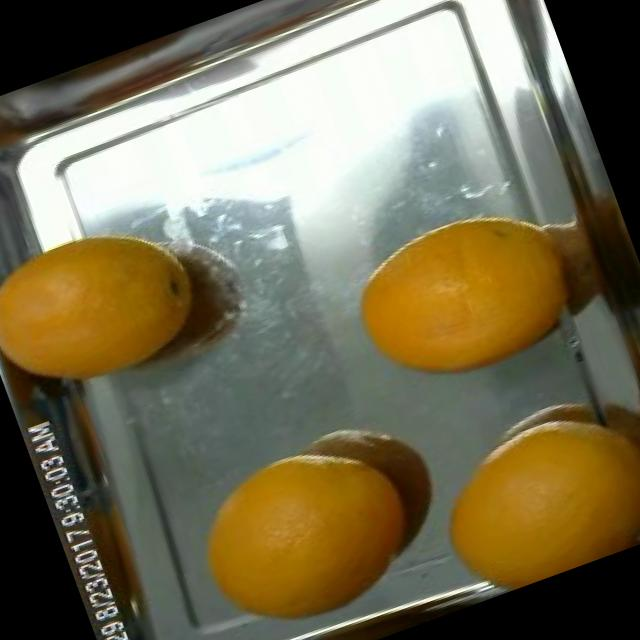Fruit: (323, 190, 565, 420), (0, 212, 185, 420)
